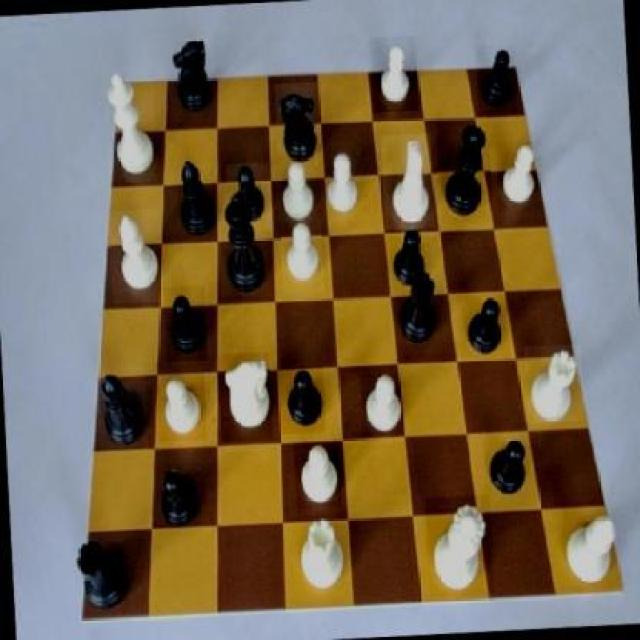bishop: (96, 366, 150, 452), (170, 156, 218, 242)
black-bishop: (215, 184, 271, 298)
black-king: (168, 36, 215, 124), (276, 82, 322, 168)
black-knight: (478, 436, 534, 504), (151, 461, 200, 537), (457, 294, 510, 363), (163, 286, 208, 363), (278, 366, 326, 436), (476, 45, 520, 120), (226, 163, 273, 233), (386, 224, 427, 292)
black-pawn: (437, 120, 494, 225)
black-queen: (74, 526, 131, 620), (391, 274, 447, 357)
black-rook: (562, 504, 632, 590), (109, 211, 165, 306)
white-bishop: (105, 63, 160, 184)
white-king: (381, 134, 437, 231), (217, 352, 273, 443)
white-knight: (318, 142, 364, 226), (371, 37, 420, 114), (497, 141, 546, 214), (157, 372, 208, 442), (277, 154, 320, 237), (358, 365, 406, 437), (280, 223, 324, 297), (294, 440, 341, 509)
white-pawn: (424, 494, 494, 598)
white-queen: (524, 344, 586, 424), (297, 508, 346, 590)
